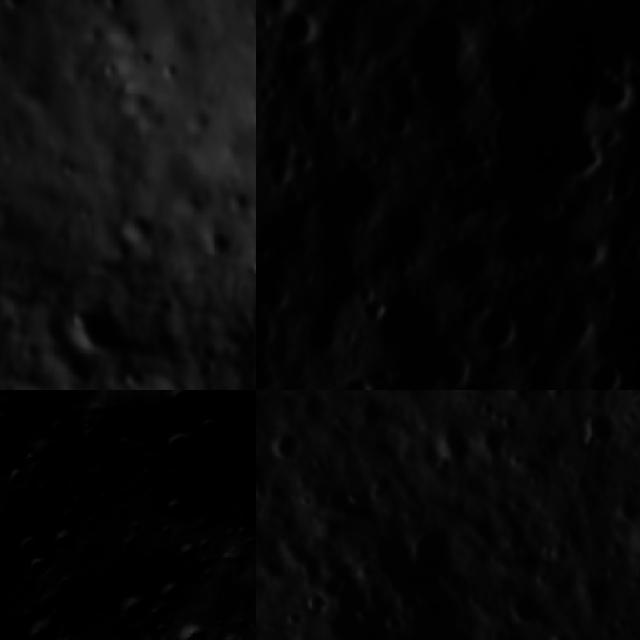crater: (146, 390, 256, 531), (391, 0, 504, 124), (59, 289, 144, 373), (325, 598, 483, 640), (466, 292, 536, 358), (324, 571, 387, 640), (404, 515, 464, 583), (580, 61, 640, 128), (0, 406, 37, 509), (268, 0, 334, 53), (363, 522, 420, 582), (439, 123, 494, 181), (106, 202, 163, 256), (429, 414, 483, 471), (103, 585, 159, 639), (350, 275, 403, 329), (425, 341, 482, 390), (575, 347, 638, 390), (0, 522, 53, 572), (577, 404, 629, 448), (504, 580, 550, 624), (476, 415, 515, 463), (42, 519, 84, 561), (158, 611, 217, 640), (16, 608, 68, 640), (19, 390, 71, 422), (326, 363, 386, 390), (267, 421, 302, 467), (200, 219, 238, 260), (156, 575, 192, 612), (613, 488, 640, 523), (160, 56, 187, 88), (544, 619, 584, 640), (233, 184, 256, 211), (0, 0, 41, 15), (53, 224, 77, 249), (136, 40, 158, 66), (97, 0, 134, 15), (63, 154, 84, 178), (104, 55, 120, 83)
